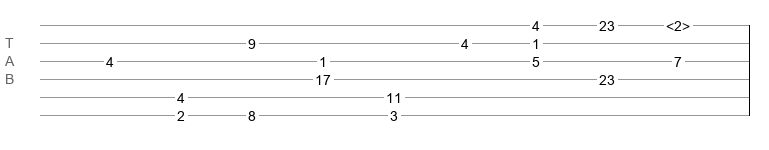1: (319, 54, 327, 64), (532, 36, 540, 46)
11: (386, 90, 402, 100)
17: (315, 72, 331, 82)
2: (177, 108, 185, 118)
23: (599, 72, 615, 82), (599, 18, 615, 28)
3: (390, 108, 398, 118)
4: (106, 54, 114, 64), (177, 90, 185, 100), (461, 36, 469, 46), (532, 18, 540, 28)
5: (532, 54, 540, 64)
7: (674, 54, 682, 64)
8: (248, 108, 256, 118)
9: (248, 36, 256, 46)
harmonic: (666, 18, 690, 28)
